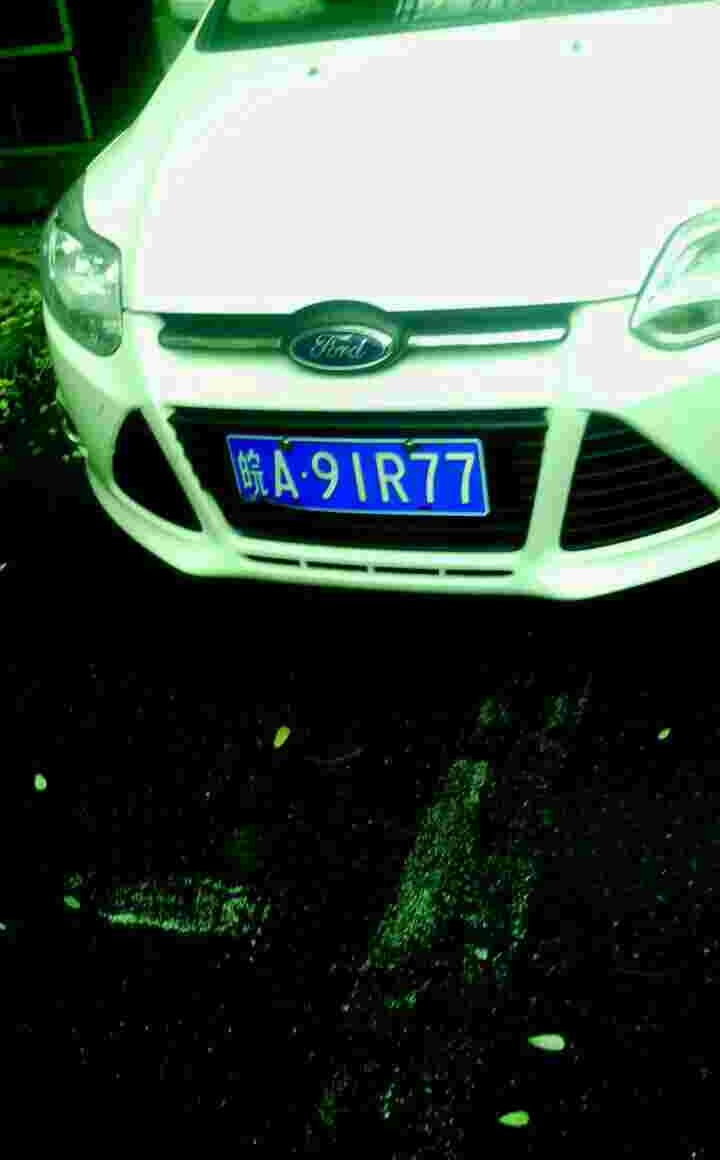plate: (223, 431, 495, 521)
